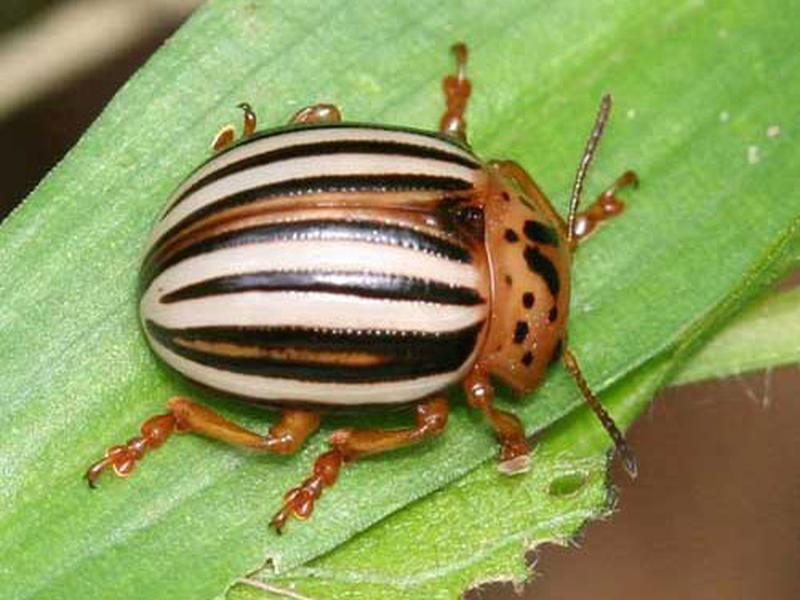hrosc: (105, 94, 629, 477)
